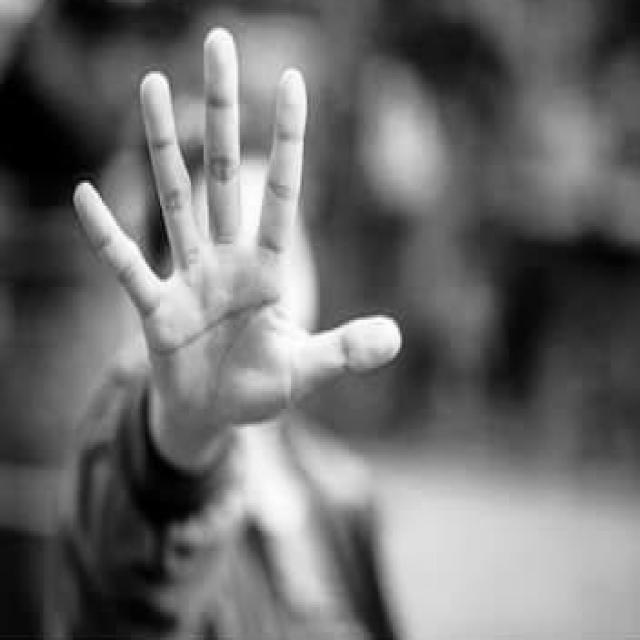stop: (70, 20, 404, 445)
